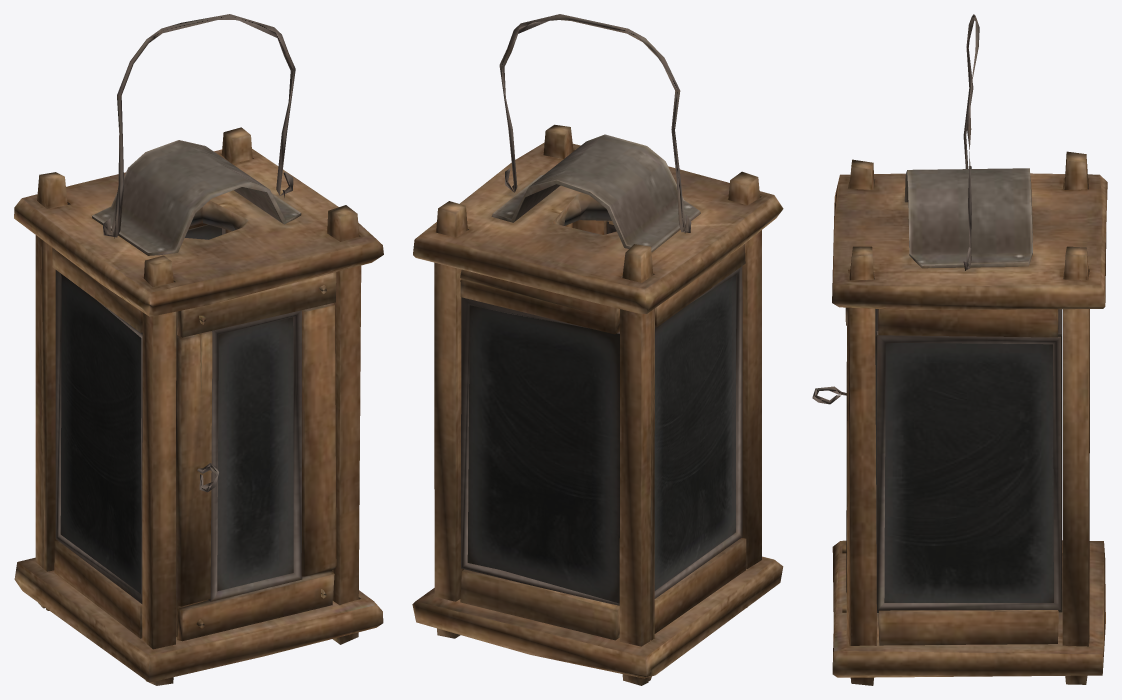
The picture shows the model from 3 angles, left to right: view 1: azimuth 30°, elevation 25°; view 2: azimuth 150°, elevation 25°; view 3: azimuth 270°, elevation 25°; orthographic projection.
Parts seen in each view (by area): view 1: wooden_lantern_01, wooden_lantern_01_door, wooden_lantern_01_handle; view 2: wooden_lantern_01, wooden_lantern_01_handle; view 3: wooden_lantern_01, wooden_lantern_01_handle, wooden_lantern_01_door.
Part boxes in pixels (bbox=[...]): wooden_lantern_01: bbox=[14, 127, 383, 685]; wooden_lantern_01_door: bbox=[176, 272, 336, 641]; wooden_lantern_01_handle: bbox=[102, 14, 295, 237]; wooden_lantern_01: bbox=[412, 124, 783, 685]; wooden_lantern_01_handle: bbox=[499, 14, 691, 232]; wooden_lantern_01: bbox=[832, 151, 1107, 685]; wooden_lantern_01_handle: bbox=[963, 14, 979, 269]; wooden_lantern_01_door: bbox=[812, 307, 847, 612].
Size of the model in its own units: 0.2201 by 0.5267 by 0.2331.
Materials: 2 (2 with a texture image).
